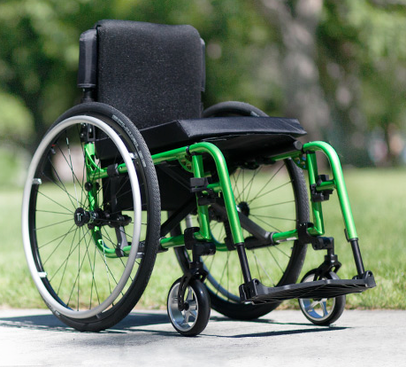wheelchair: (19, 14, 382, 338)
